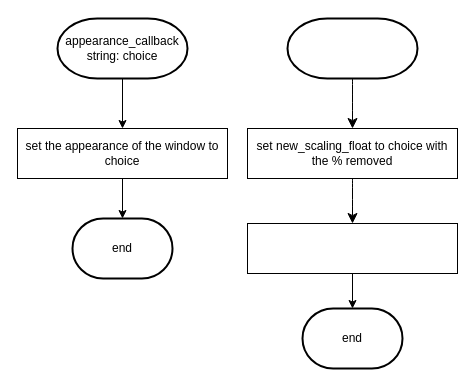
This 475x386 diagram has some shape labels left out. Each missing label, with the centre of its shape:
scaling_callback string: choice: pixel 352 48
set the appearance of the window to new_scaling_float: pixel 352 248
